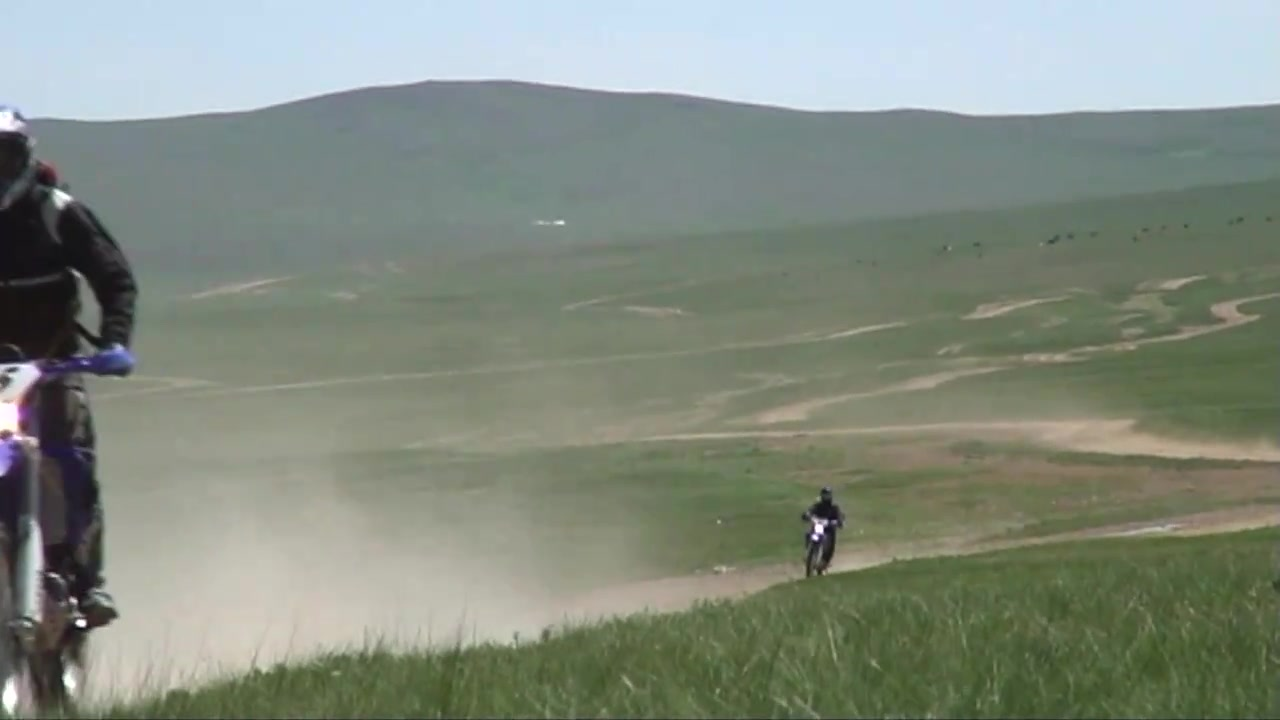motorbike: (1, 313, 134, 720), (799, 511, 844, 580)
